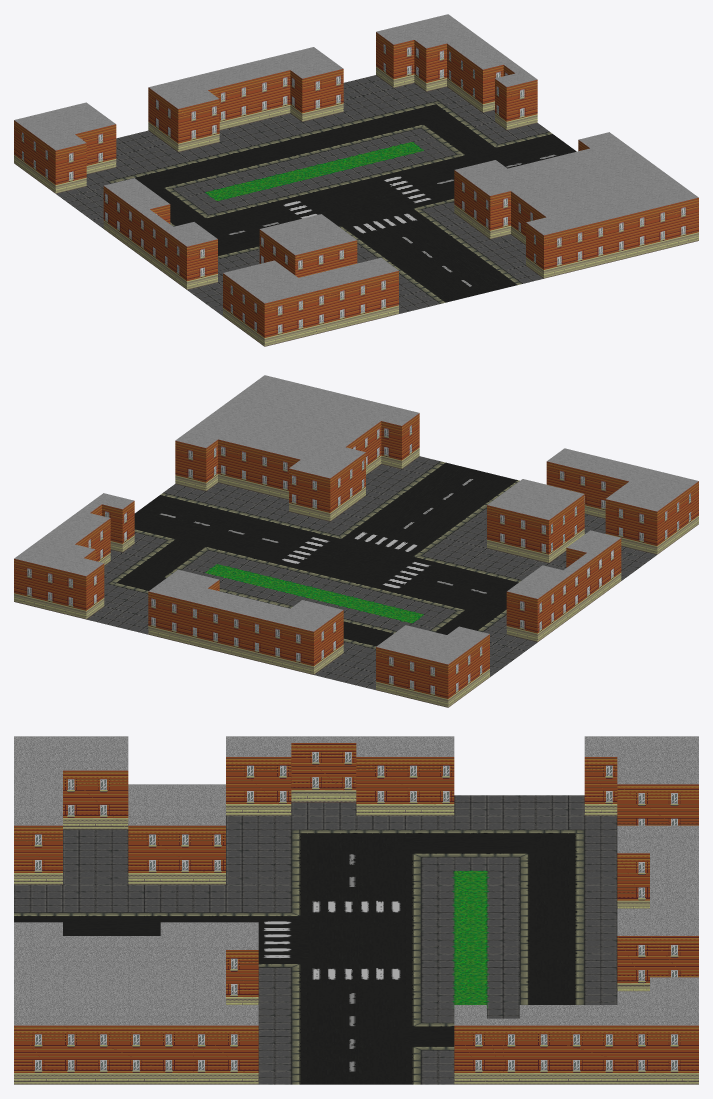
Rendered from Block4.fbx.
The picture shows the model from 3 angles, top to bottom: view 1: azimuth 30°, elevation 25°; view 2: azimuth 150°, elevation 25°; view 3: azimuth 270°, elevation 25°; orthographic projection. The views are drawn at different scales.
Parts seen in each view (by area): view 1: Plane, Building7, Building2, Building5, Building1, Building4, Building3, Building6; view 2: Plane, Building7, Building2, Building5, Building1, Building3, Building4, Building6; view 3: Plane, Building7, Building1, Building4, Building5, Building2, Building3, Building6.
Part boxes in pixels (bbox=[...]): Plane: bbox=[56, 75, 576, 315]; Building7: bbox=[454, 132, 698, 278]; Building2: bbox=[148, 47, 343, 152]; Building5: bbox=[223, 258, 398, 346]; Building1: bbox=[376, 14, 537, 130]; Building4: bbox=[103, 178, 217, 289]; Building3: bbox=[14, 102, 116, 193]; Building6: bbox=[259, 214, 357, 277]; Plane: bbox=[86, 456, 656, 689]; Building7: bbox=[175, 375, 419, 521]; Building2: bbox=[148, 569, 343, 674]; Building5: bbox=[546, 448, 698, 554]; Building1: bbox=[14, 493, 134, 619]; Building3: bbox=[376, 625, 489, 707]; Building4: bbox=[506, 530, 621, 642]; Building6: bbox=[487, 479, 584, 563]; Plane: bbox=[14, 795, 617, 1084]; Building7: bbox=[14, 922, 258, 1084]; Building1: bbox=[454, 977, 698, 1084]; Building4: bbox=[226, 736, 454, 815]; Building5: bbox=[14, 736, 128, 884]; Building2: bbox=[617, 825, 698, 991]; Building3: bbox=[584, 736, 698, 825]; Building6: bbox=[128, 784, 225, 884].
Size of the model in its own units: 420 by 40 by 420.
Materials: 15 (15 with a texture image).
